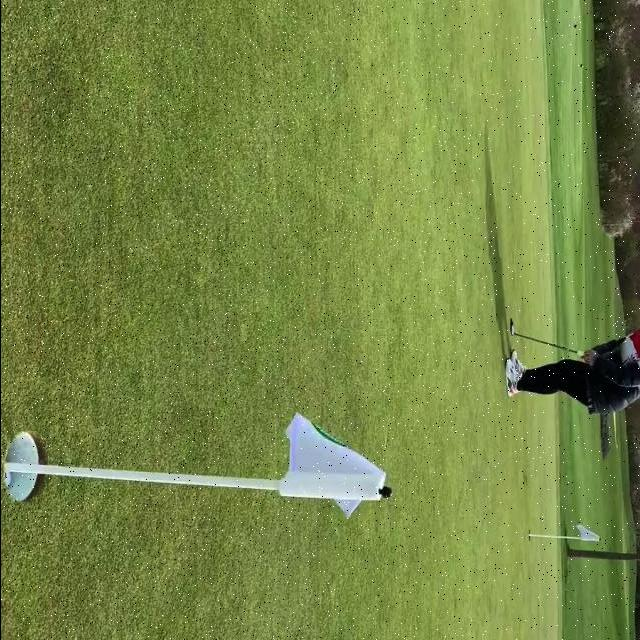ClubHandle: (506, 317, 586, 360)
ClubHead: (508, 317, 514, 336)
